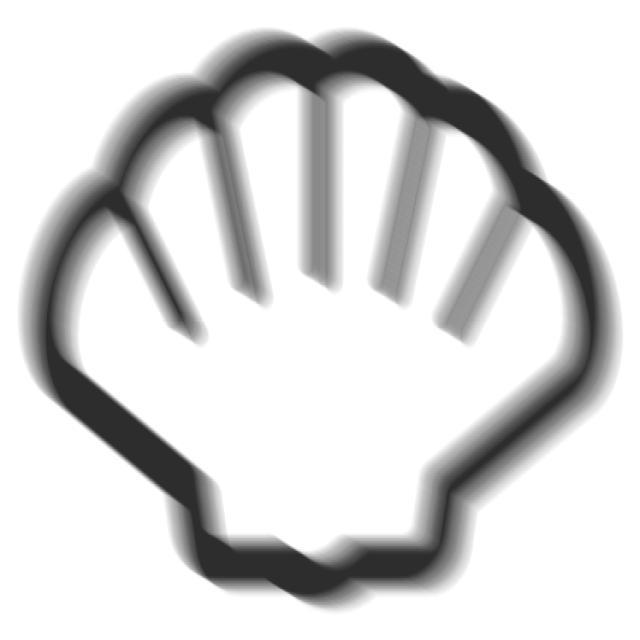shell: (6, 15, 629, 630)
